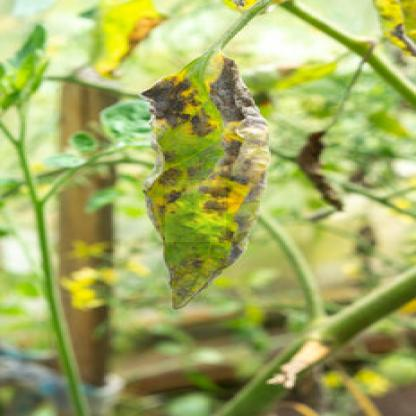black-spot: (165, 180, 226, 242)
